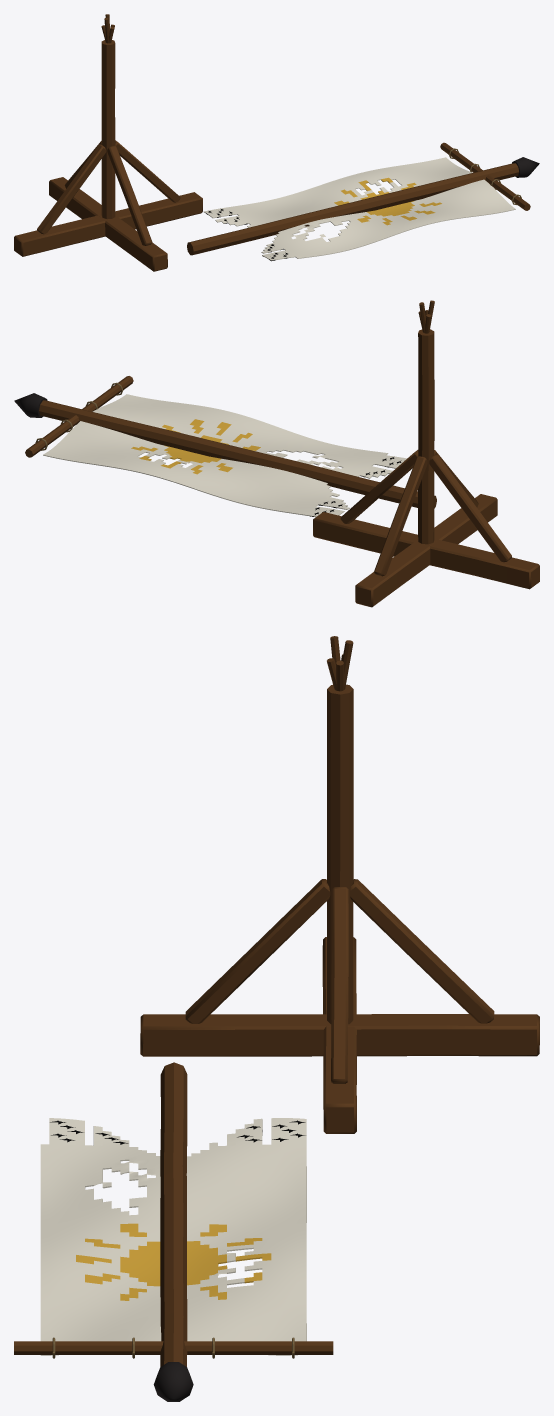
File: banner_weiss_kaputt.glb
3 views of the same model, one above another, from view 1: azimuth 30°, elevation 25°; view 2: azimuth 150°, elevation 25°; view 3: azimuth 270°, elevation 25° (orthographic). The views are drawn at different scales.
Parts seen in each view (by area): view 1: banner_weiss_kaputt; view 2: banner_weiss_kaputt; view 3: banner_weiss_kaputt.
Part boxes in pixels (x1,y1,x2,y2): banner_weiss_kaputt: [14, 14, 539, 271]; banner_weiss_kaputt: [14, 300, 539, 607]; banner_weiss_kaputt: [14, 636, 539, 1401].
Bounding box in the file's own units: 3.16 × 1.38 × 1.58.
